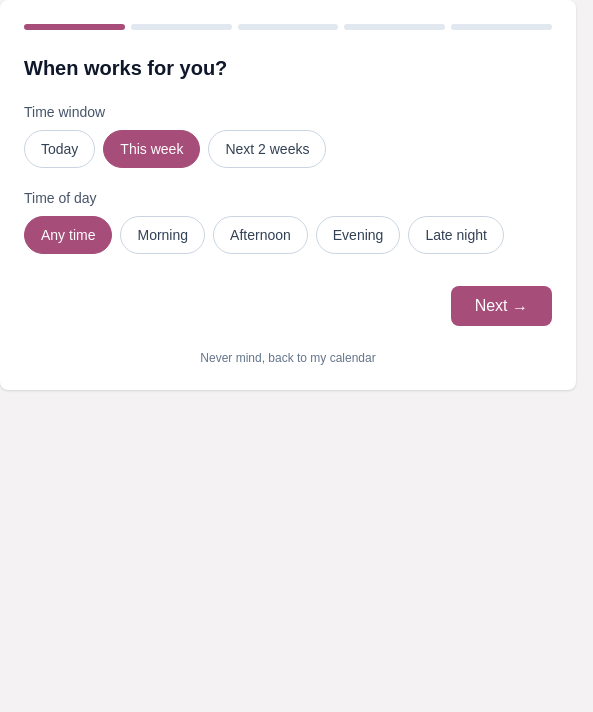
Scenario: PrickleWizard › walks through all five steps via Next/Back, with feelings last
Click the button "Next →": {"x": 501, "y": 306} [451,286,552,326]
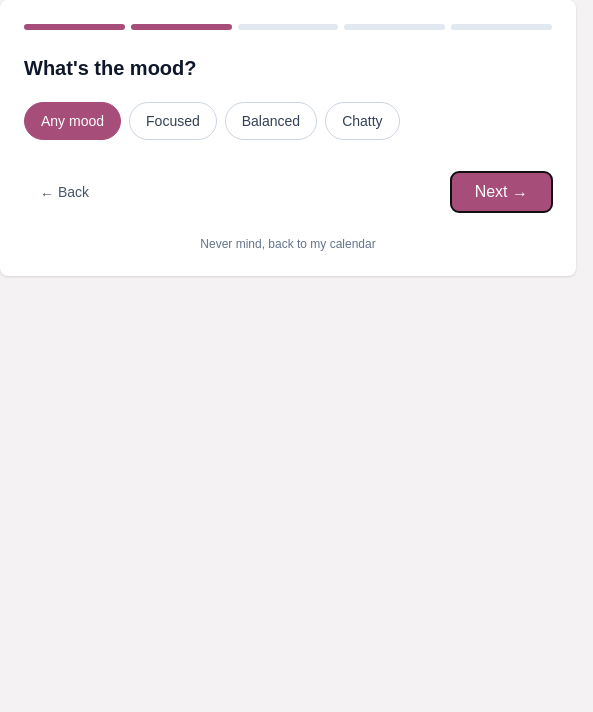
Check: the heading "What's the mood?" is shown, box [24,57,196,79]
Click the button "Next →": {"x": 501, "y": 192} [451,172,552,212]
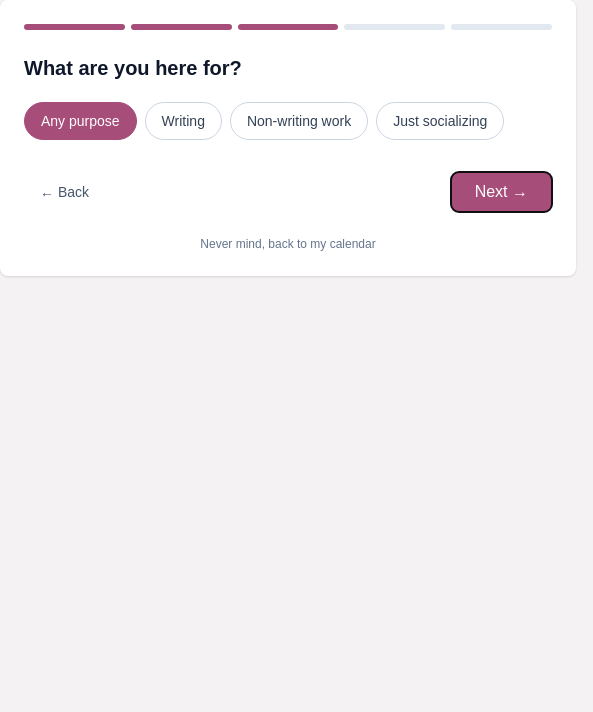
Check: the heading "What are you here for?" is shown, box [24,57,242,79]
Click the button "Next →": {"x": 501, "y": 192} [451,172,552,212]
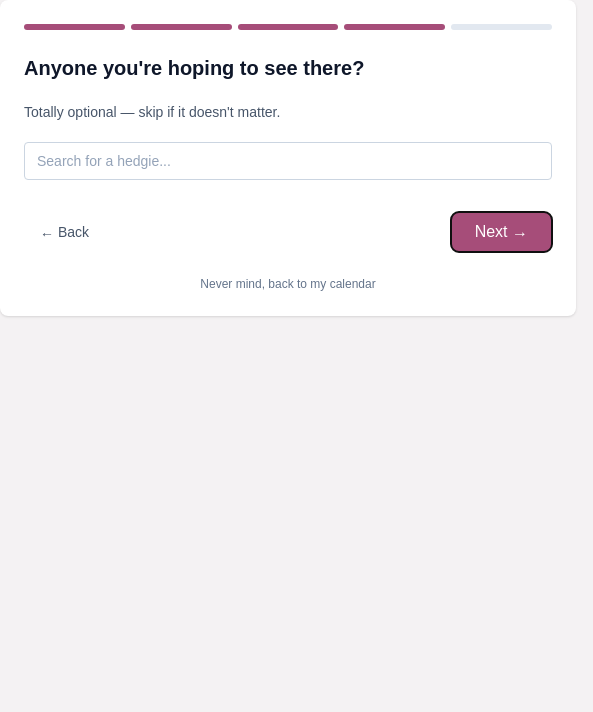
Check: the heading "Anyone you're hoping to see there?" is shown, box [24,57,364,79]
Click the button "Next →": {"x": 501, "y": 232} [451,212,552,252]
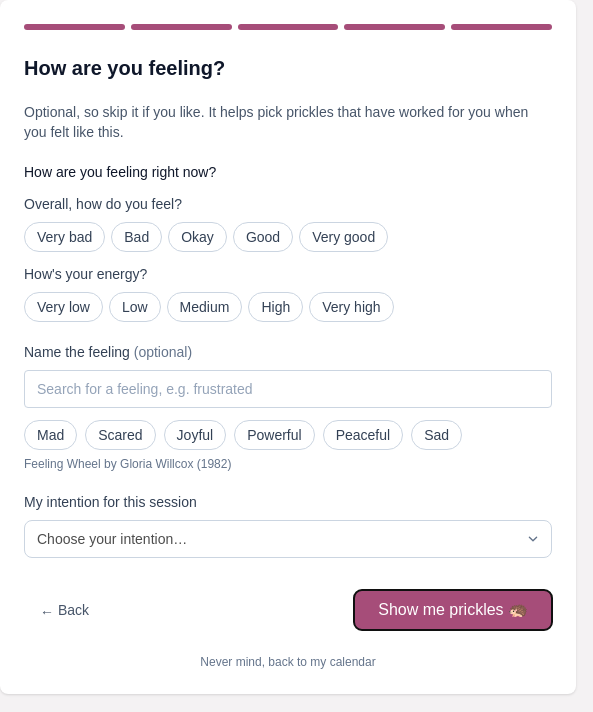
Check: the heading "How are you feeling?" is shown, box [24,57,225,79]
Check: the text "skip it if you like" is shown, box [24,104,528,140]
Click the button "← Back": {"x": 64, "y": 610} [24,590,105,630]
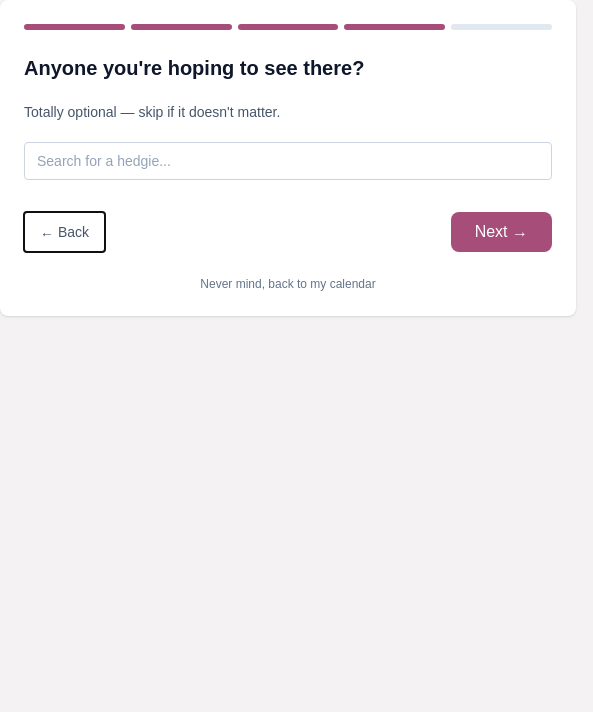
Check: the heading "Anyone you're hoping to see there?" is shown, box [24,57,364,79]
